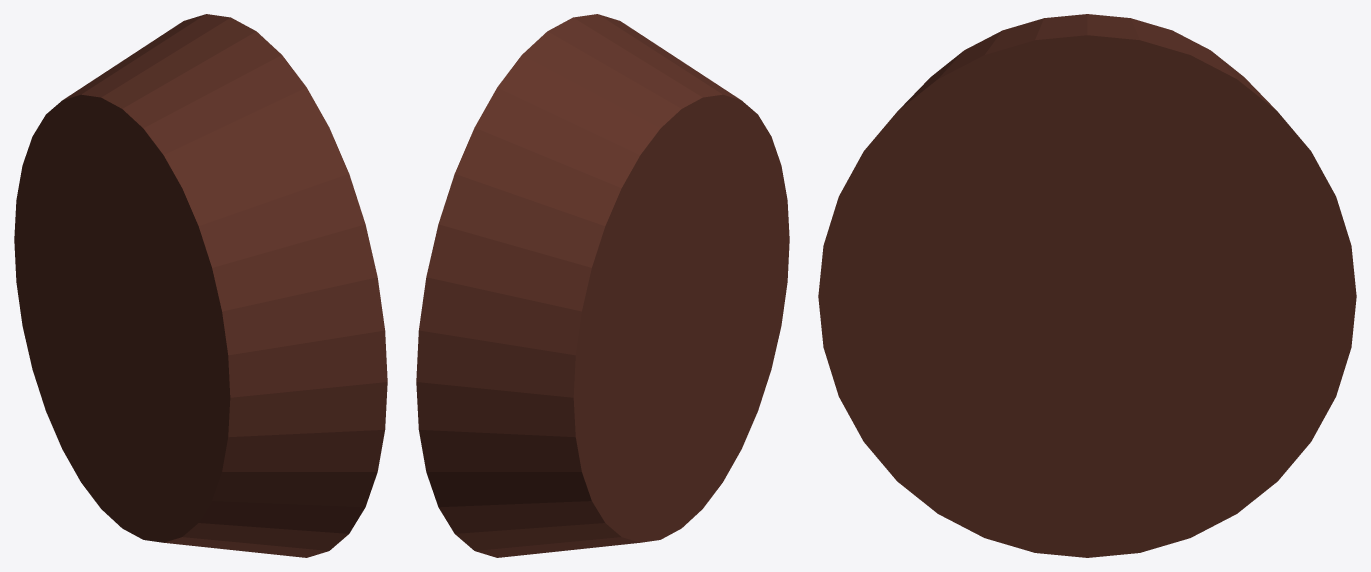
Rendered from circle_lev3.glb.
3 renders of one model, left to right at view 1: azimuth 30°, elevation 25°; view 2: azimuth 150°, elevation 25°; view 3: azimuth 270°, elevation 25°, orthographic. The views are drawn at different scales.
Visible parts, largest first — view 1: circle_lev3; view 2: circle_lev3; view 3: circle_lev3.
Part boxes in pixels (x1=…): circle_lev3: x1=14, y1=14, x2=387, y2=557; circle_lev3: x1=416, y1=14, x2=789, y2=557; circle_lev3: x1=818, y1=14, x2=1356, y2=557.
Bounding box in the file's own units: 0.0318 × 0.1153 × 0.1076.
